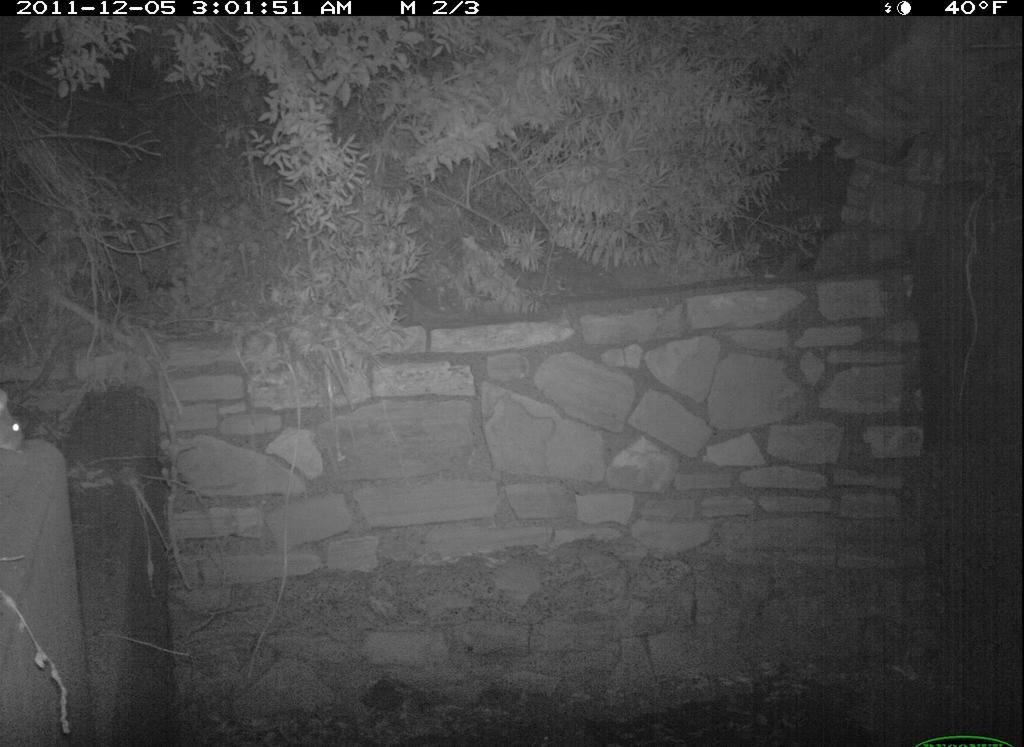rodent: (1, 376, 35, 472)
